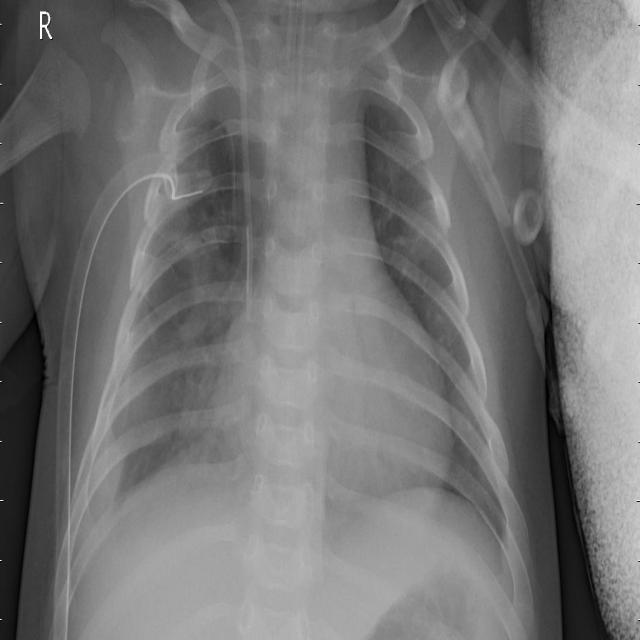high-pneumonia: (82, 116, 240, 532)
low-pneumonia: (390, 124, 453, 282)
